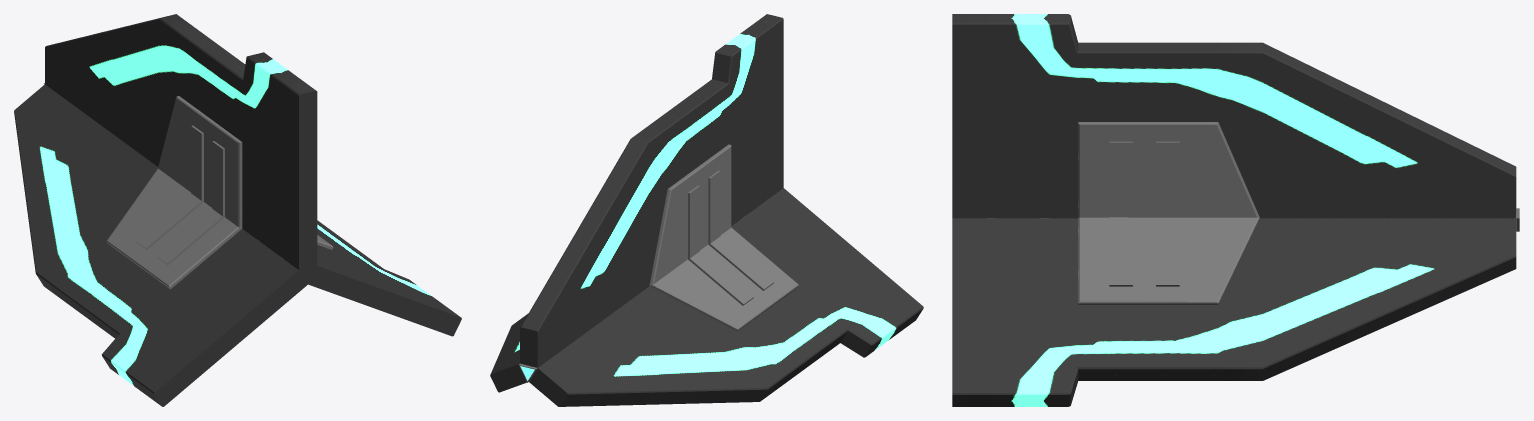
The picture shows the model from 3 angles, left to right: view 1: azimuth 30°, elevation 25°; view 2: azimuth 150°, elevation 25°; view 3: azimuth 270°, elevation 25°; orthographic projection. The views are drawn at different scales.
Visible parts, largest first — view 1: EnemyStarship_0; view 2: EnemyStarship_0; view 3: EnemyStarship_0.
Part boxes in pixels (x1,y1,x2,y2): EnemyStarship_0: [14, 14, 461, 406]; EnemyStarship_0: [490, 14, 923, 406]; EnemyStarship_0: [952, 14, 1519, 406].
Size of the model in its own units: 5.37 by 4.66 by 7.72.
1 material, 1 textured.
